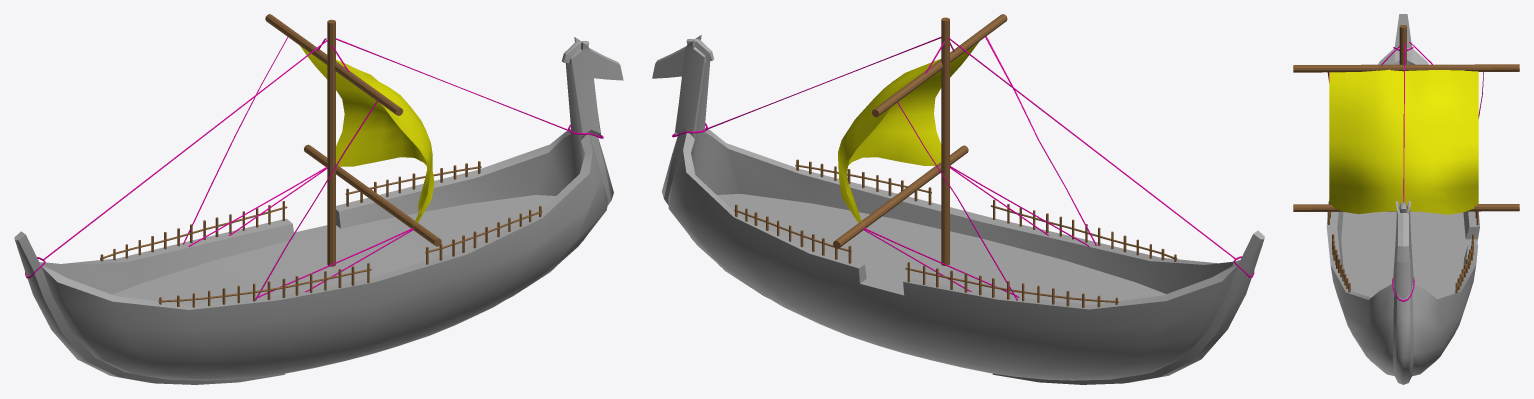
Rendered from Barco3Nuevo2 1.fbx.
The picture shows the model from 3 angles, left to right: view 1: azimuth 30°, elevation 25°; view 2: azimuth 150°, elevation 25°; view 3: azimuth 270°, elevation 25°; orthographic projection. The views are drawn at different scales.
Parts seen in each view (by area): view 1: Barco3Nuevo6; view 2: Barco3Nuevo6; view 3: Barco3Nuevo6.
Boxes of the visible parts, x1,y1,x2,y2 form: Barco3Nuevo6: [14, 14, 623, 384]; Barco3Nuevo6: [652, 14, 1264, 384]; Barco3Nuevo6: [1293, 14, 1519, 384].
Size of the model in its own units: 167167 by 89657 by 61500.
